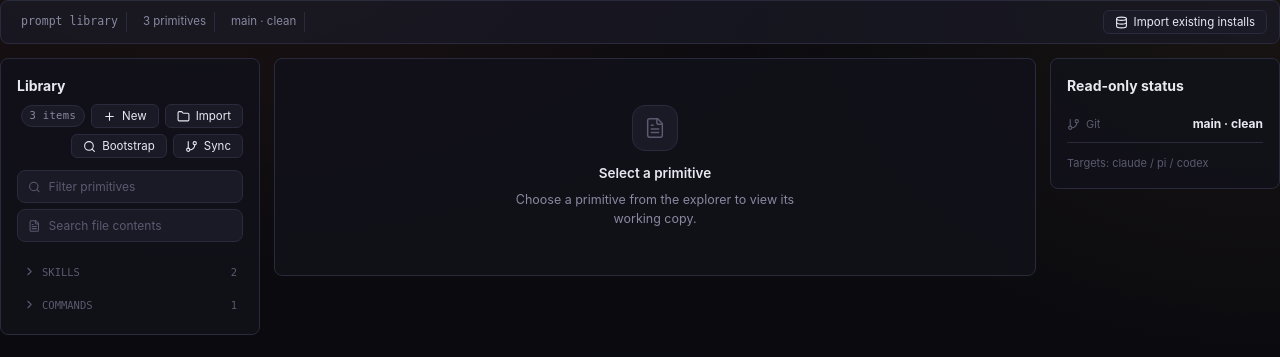
Test: Library route — explorer, collapse, selection, detail › the explorer badge shows '1 item' when filter results in a single primitive
Note: Filter to match only one primitive
Type "diagnose" into the field with placeholder "Filter primitives" at (140,186), box [49,179,232,194]
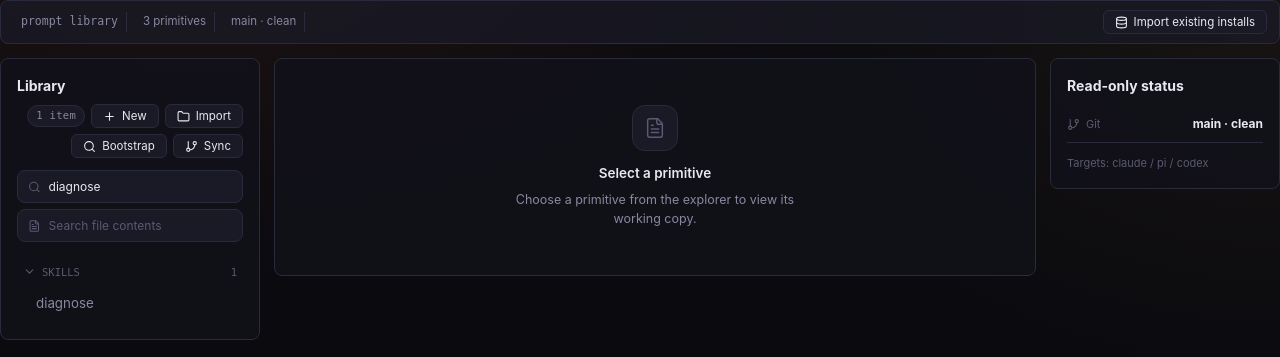
Expected: the text "1 item" is shown, [27,105,85,127]
